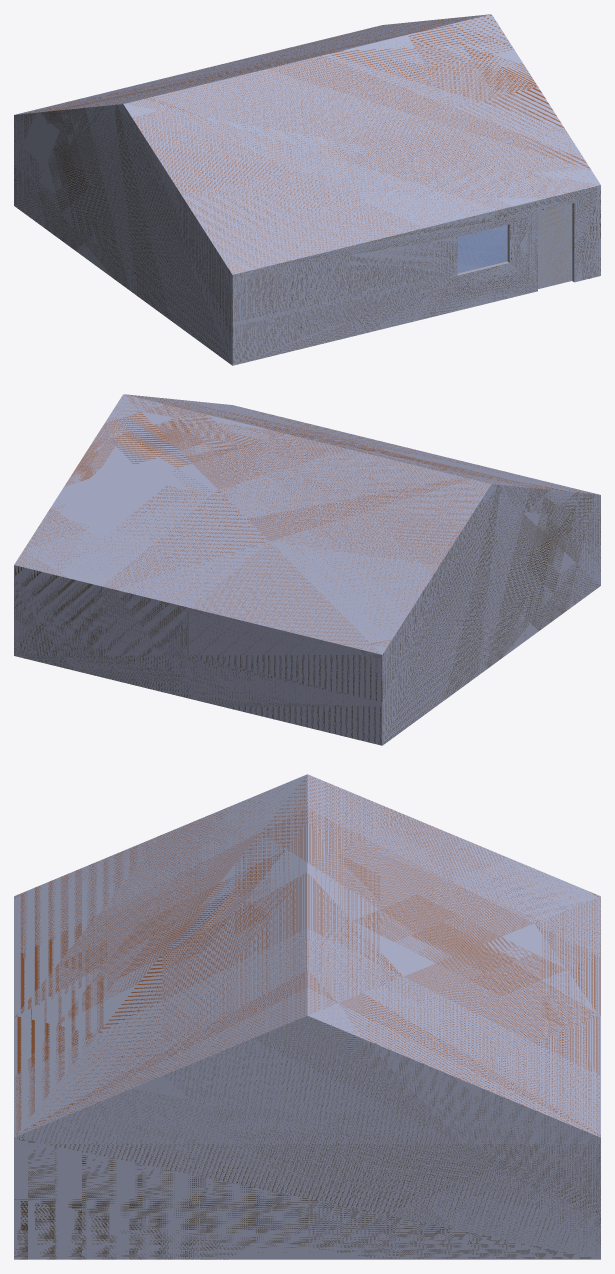
File: house0.fbx
3 views of the same model, one above another, from view 1: azimuth 30°, elevation 25°; view 2: azimuth 150°, elevation 25°; view 3: azimuth 270°, elevation 25° (orthographic). The views are drawn at different scales.
Parts seen in each view (by area): view 1: Model; view 2: Model; view 3: Model.
Boxes of the visible parts, <box> form: Model: <box>14,14,600,365</box>; Model: <box>14,394,600,745</box>; Model: <box>14,774,600,1259</box>.
Size of the model in its own units: 5.09 by 2.4 by 5.23.
